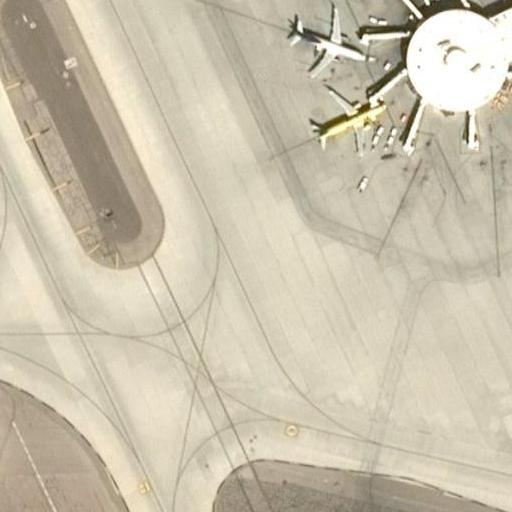Aircraft: (279, 0, 366, 78), (306, 85, 392, 154)
